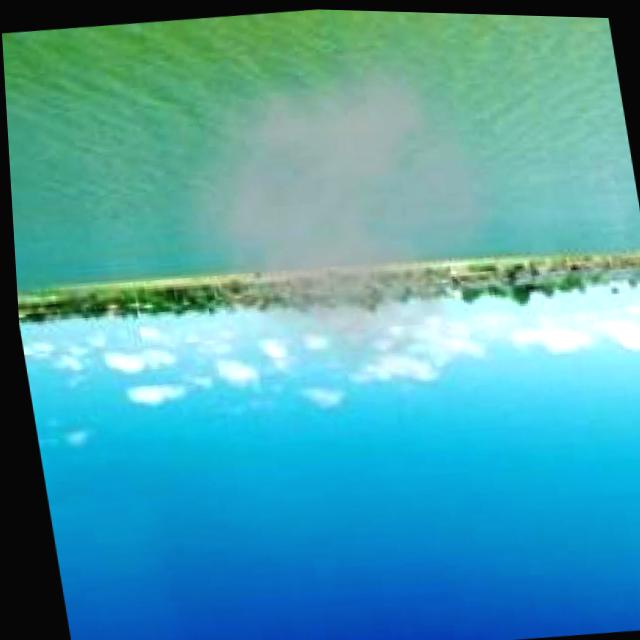Smoke: (133, 28, 551, 420)
